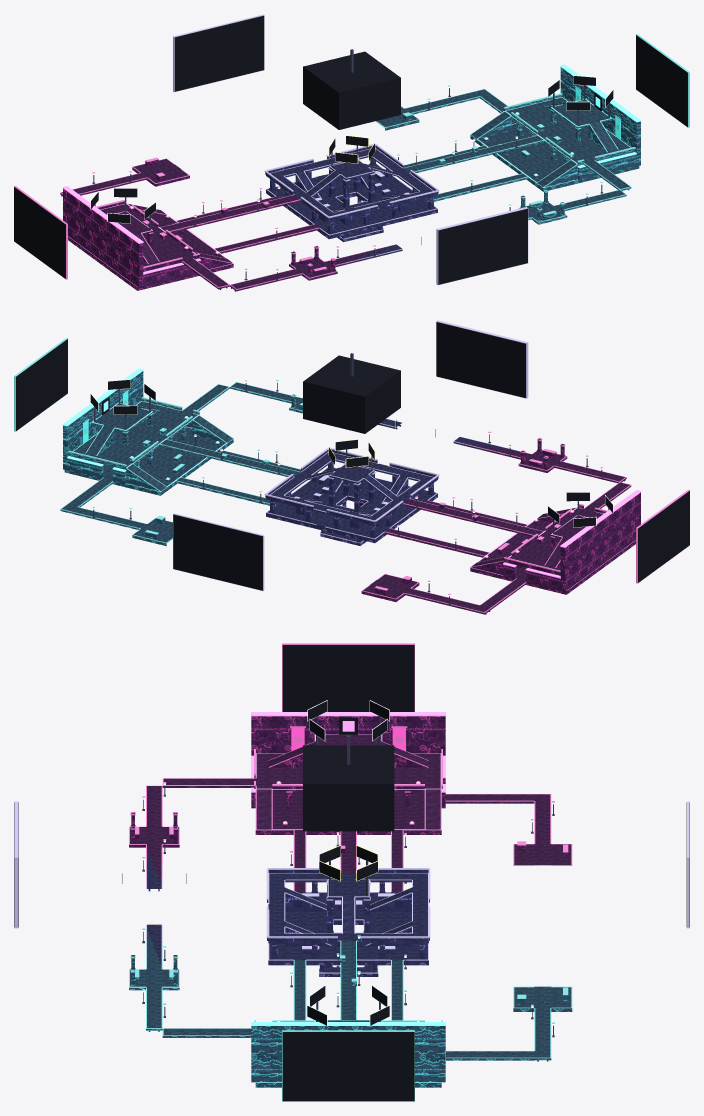
The model's file is skyreach_nexus_map_v35.glb.
3 renders of one model, top to bottom at view 1: azimuth 30°, elevation 25°; view 2: azimuth 150°, elevation 25°; view 3: azimuth 270°, elevation 25°, orthographic. The views are drawn at different scales.
Visible parts, largest first — view 1: skin; view 2: skin; view 3: skin.
Boxes of the visible parts, <box> form: skin: <box>14,14,689,291</box>; skin: <box>14,320,689,614</box>; skin: <box>14,643,689,1101</box>.
Size of the model in its own units: 218 by 59.62 by 160.
26 materials, 9 textured.
